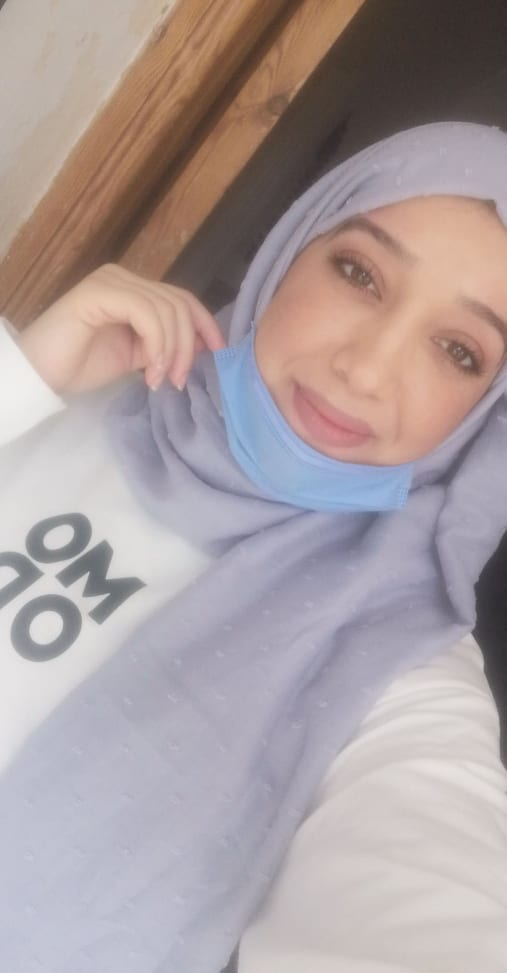mask_weared_incorrect: (234, 215, 504, 496)
